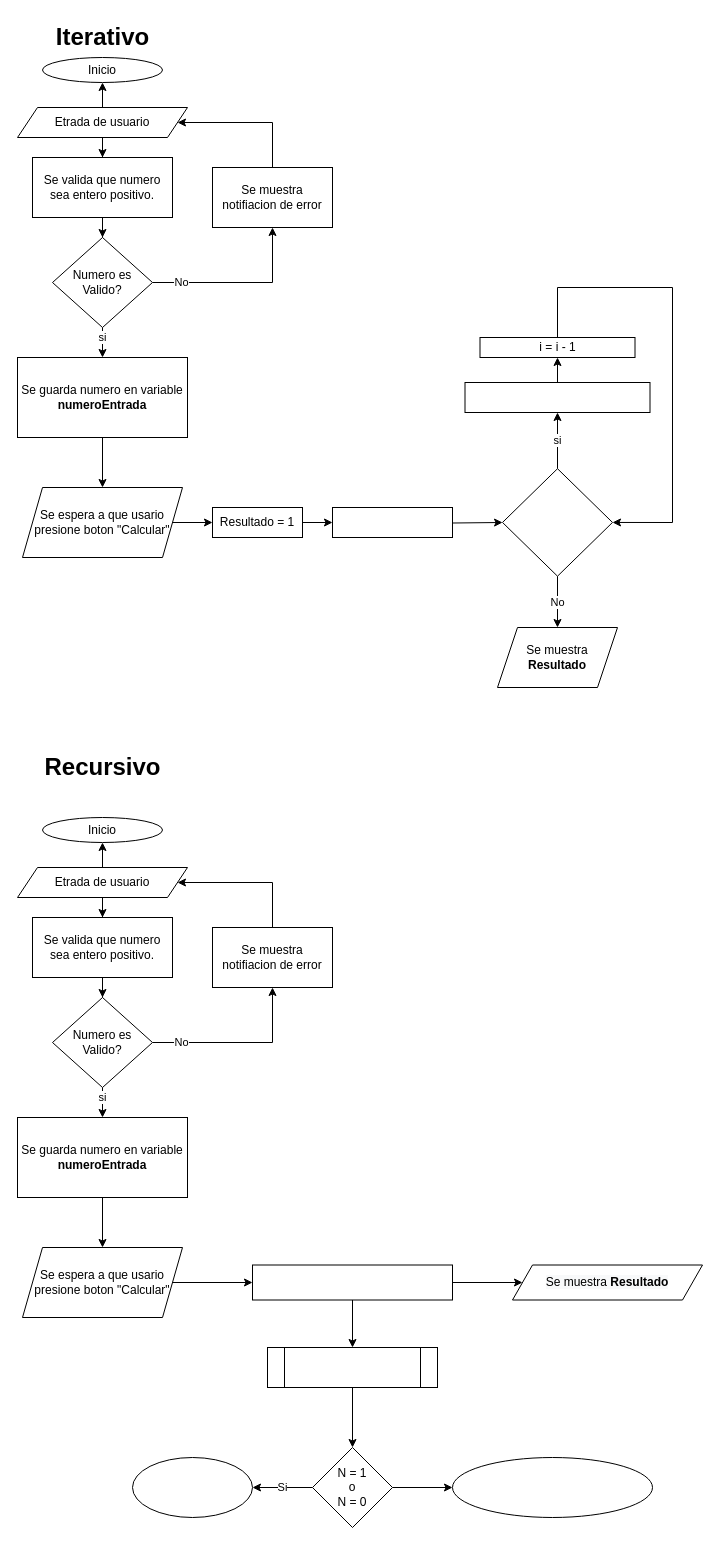
Some shapes in this 720 by 1545 pixel diagram are drawn without their labels. The shapes that lost their labels are listed below. From the top down, each one's centre as x and y in pixels, then its label:
point (557, 397): Resultado = Resultado * i
point (392, 522): i = numeroEntrada
point (557, 522): i > 0
point (352, 1282): Resultado = FactorialRecursivo( numeroEntrada )
point (352, 1367): FactorialRecursivo( N )
point (192, 1487): Regresa 1
point (552, 1487): Regresa FactorialRecursivo( N -1)
